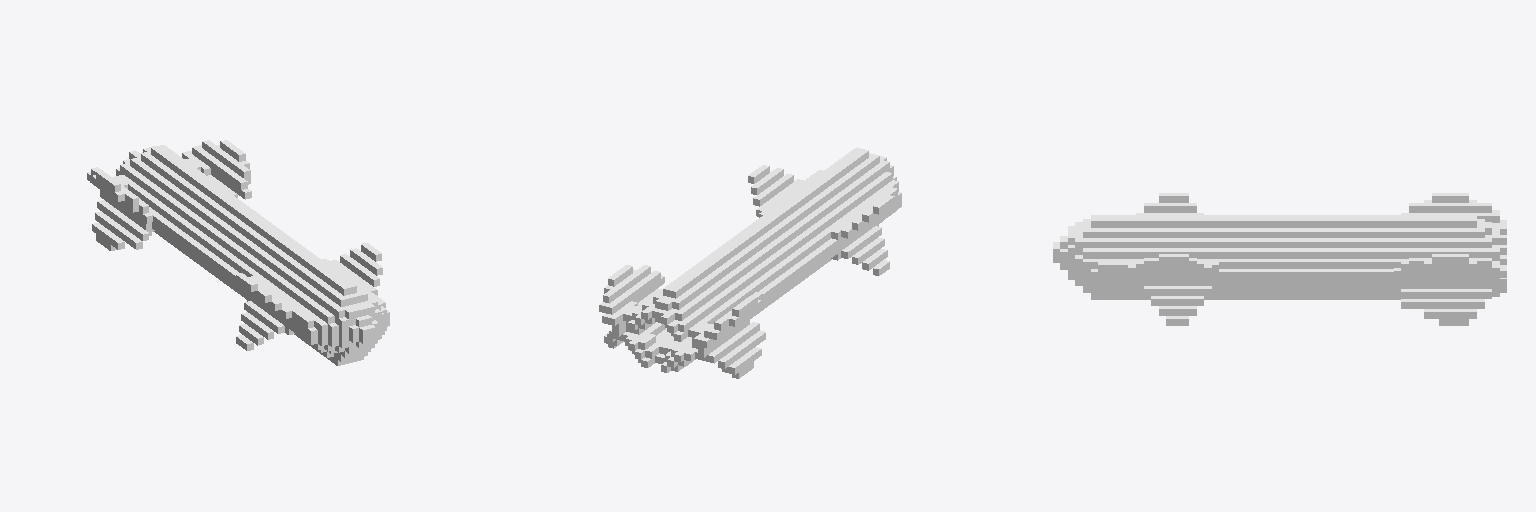
The model's file is missileVoxel.obj.
The picture shows the model from 3 angles: view 1: azimuth 30°, elevation 25°; view 2: azimuth 150°, elevation 25°; view 3: azimuth 270°, elevation 25°; orthographic projection.
Bounding box in the file's own units: 20 × 11 × 60.